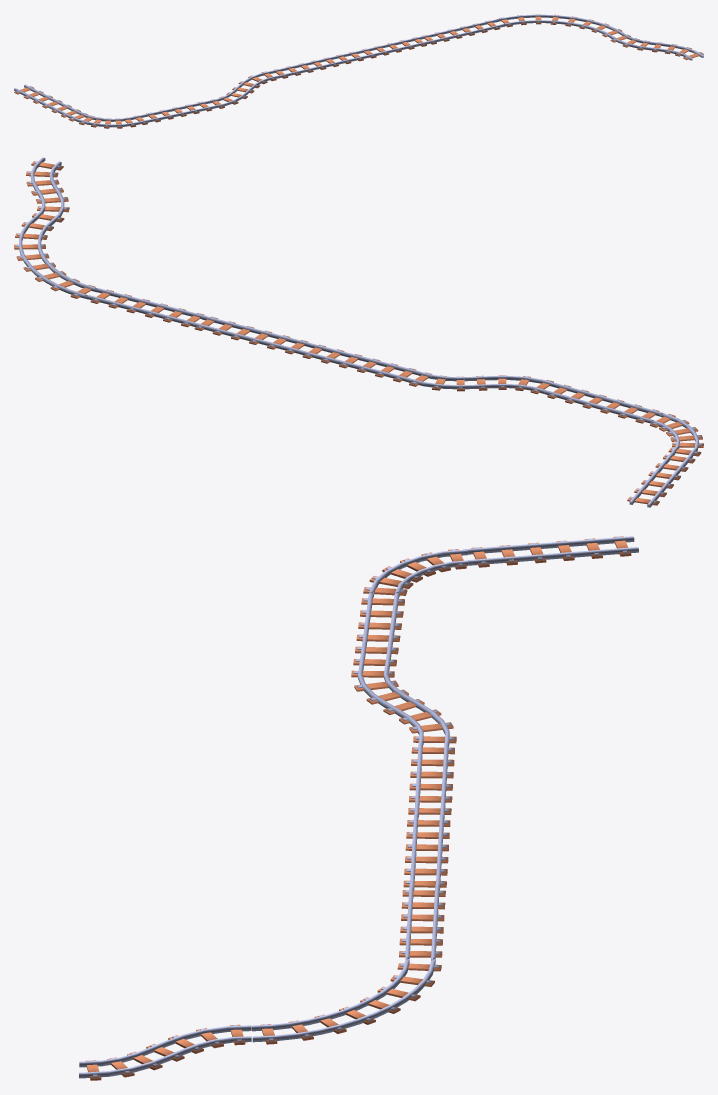
Rendered from left-pipe-curve.glb.
The picture shows the model from 3 angles, top to bottom: view 1: azimuth 30°, elevation 25°; view 2: azimuth 150°, elevation 25°; view 3: azimuth 270°, elevation 25°; orthographic projection. The views are drawn at different scales.
Parts seen in each view (by area): view 1: railroad-corner-large.023, railroad-curve.015, railroad-curve.014, railroad-straight.067, railroad-straight.065, railroad-straight.063, railroad-straight.064, railroad-straight.066, railroad-corner-small.014; view 2: railroad-corner-large.023, railroad-curve.014, railroad-curve.015, railroad-straight.064, railroad-straight.063, railroad-straight.067, railroad-straight.065, railroad-straight.066, railroad-corner-small.014; view 3: railroad-corner-large.023, railroad-curve.015, railroad-straight.066, railroad-curve.014, railroad-straight.067, railroad-straight.063, railroad-straight.064, railroad-straight.065, railroad-corner-small.014.
Part boxes in pixels (x1,y1,x2,y2): railroad-corner-large.023: (495, 14, 623, 37); railroad-curve.015: (610, 33, 703, 60); railroad-curve.014: (208, 70, 277, 108); railroad-straight.067: (131, 101, 214, 124); railroad-straight.065: (420, 19, 502, 44); railroad-straight.063: (272, 53, 353, 78); railroad-straight.064: (347, 36, 429, 61); railroad-straight.066: (14, 84, 80, 118); railroad-corner-small.014: (68, 112, 137, 128); railroad-corner-large.023: (14, 217, 98, 299); railroad-curve.014: (405, 371, 557, 394); railroad-curve.015: (26, 157, 69, 224); railroad-straight.064: (191, 315, 310, 354); railroad-straight.063: (299, 343, 418, 382); railroad-straight.067: (544, 384, 662, 423); railroad-straight.065: (88, 288, 206, 327); railroad-straight.066: (627, 451, 695, 507); railroad-corner-small.014: (650, 413, 703, 456); railroad-corner-large.023: (252, 957, 441, 1044); railroad-curve.015: (79, 1024, 251, 1080); railroad-straight.066: (464, 536, 638, 567); railroad-curve.014: (351, 664, 456, 746); railroad-straight.067: (353, 592, 404, 668); railroad-straight.063: (408, 741, 454, 818); railroad-straight.064: (403, 814, 450, 890); railroad-straight.065: (399, 884, 445, 960); railroad-corner-small.014: (363, 549, 468, 597).
Size of the model in its own units: 29.8 by 0.103 by 12.98.
Materials: 4 (4 with a texture image).
